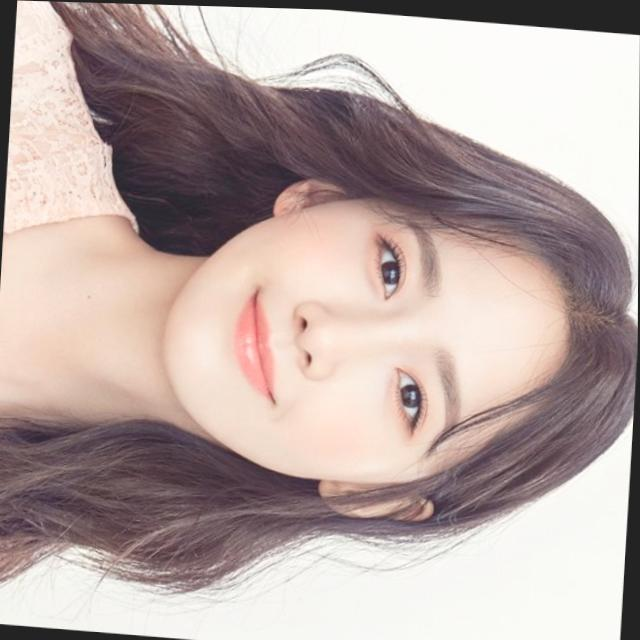face: (116, 122, 619, 564)
